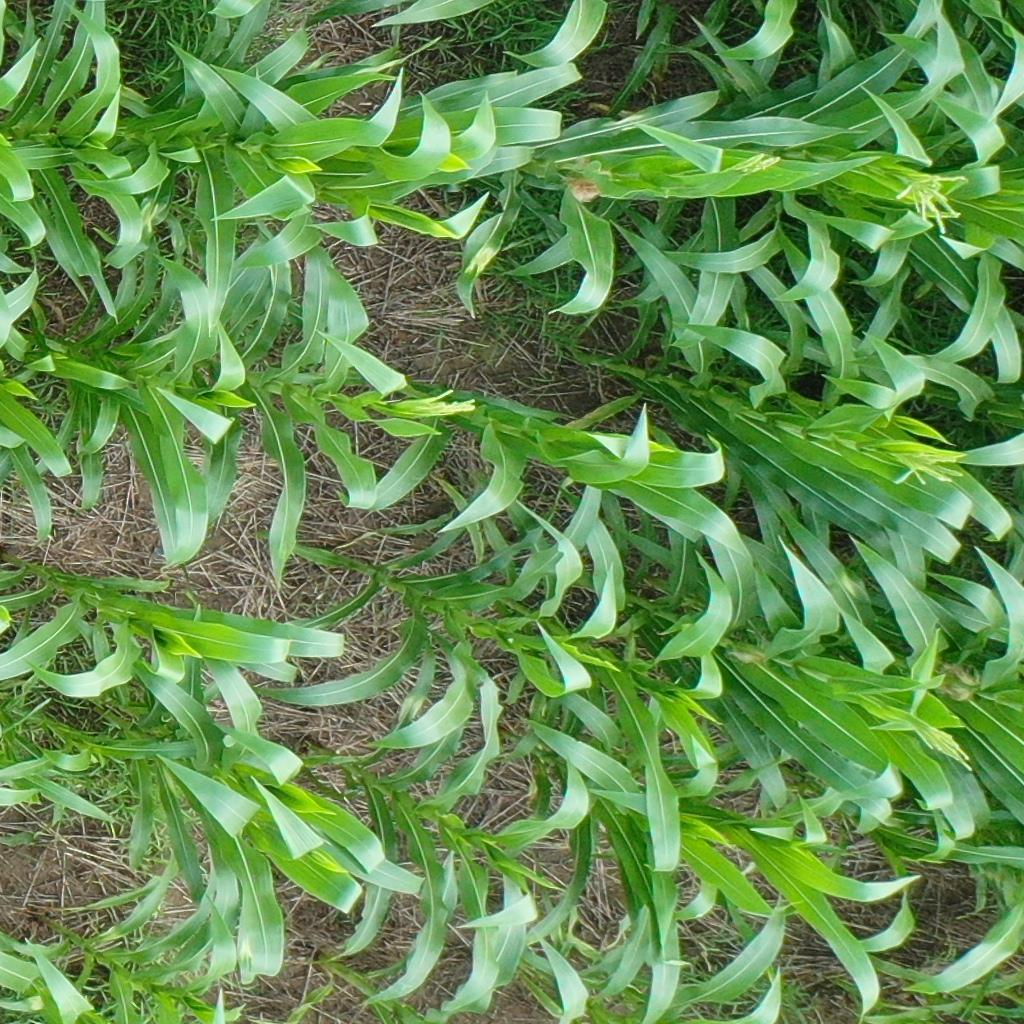Tassel: (895, 161, 968, 239), (905, 712, 973, 774), (883, 439, 966, 488), (393, 387, 481, 417), (718, 149, 780, 177), (136, 199, 162, 234)
